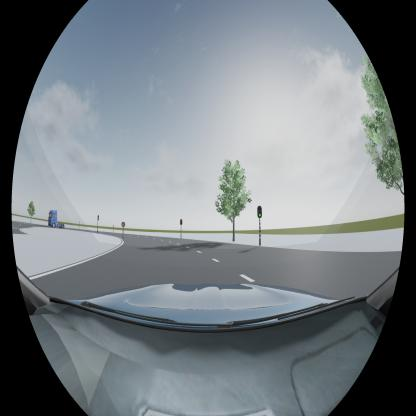Green Light: (257, 206, 262, 218)
Red Light: (180, 219, 182, 225)
Speed Limit 70: (122, 222, 125, 227)
